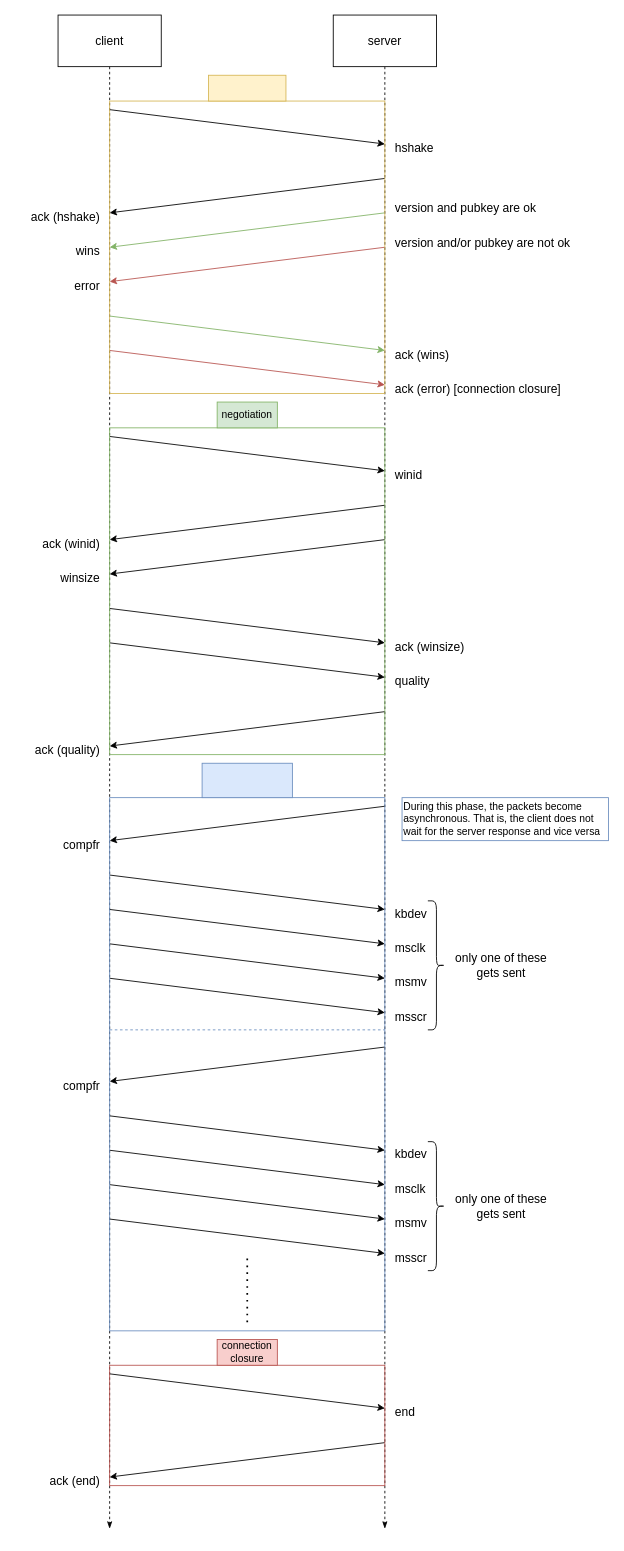
Some shapes in this 624 by 1551 pixel diagram are drawn without their labels. Each missing label, with the centre of its shape:
frame update and input handling: pixel 246 780
handshake: pixel 247 87
